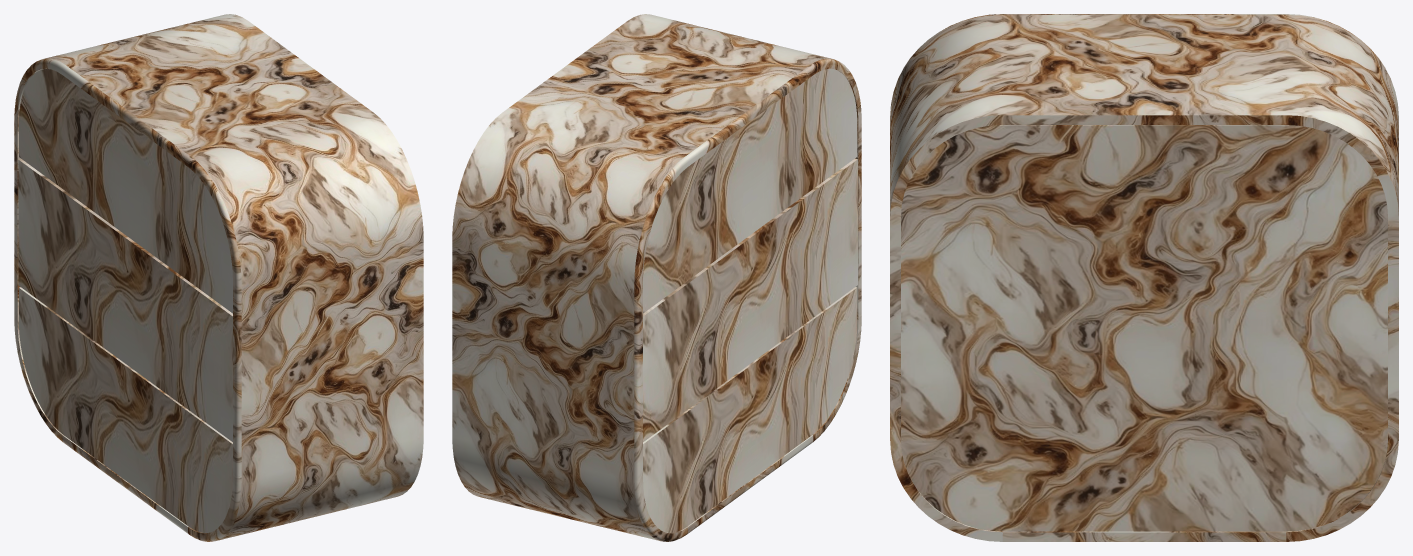
File: 1tumba19.glb
3 renders of one model, left to right at view 1: azimuth 30°, elevation 25°; view 2: azimuth 150°, elevation 25°; view 3: azimuth 270°, elevation 25°, orthographic. The views are drawn at different scales.
Visible parts, largest first — view 1: tumba, Object03, Object02, Object01; view 2: tumba, Object03, Object02, Object01; view 3: Plane, tumba.
Part boxes in pixels (<box>): tumba: <box>14,14,423,541</box>; Object03: <box>18,159,232,441</box>; Object02: <box>19,287,232,532</box>; Object01: <box>19,68,232,313</box>; tumba: <box>452,14,861,541</box>; Object03: <box>643,158,857,441</box>; Object02: <box>643,287,857,532</box>; Object01: <box>643,68,857,313</box>; Plane: <box>901,125,1387,531</box>; tumba: <box>890,14,1398,541</box>.
Bounding box in the file's own units: 0.2246 × 0.435 × 0.47.
Materials: 7 (3 with a texture image).
